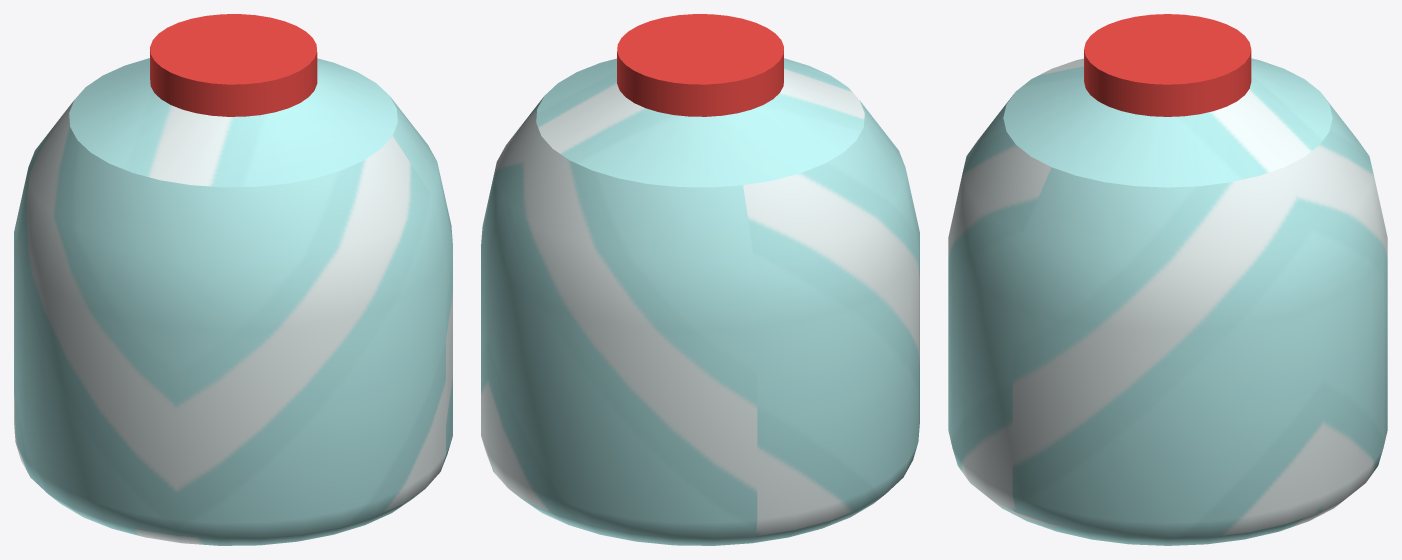
Rendered from Props_Jar.fbx.
3 renders of one model, left to right at view 1: azimuth 30°, elevation 25°; view 2: azimuth 150°, elevation 25°; view 3: azimuth 270°, elevation 25°, orthographic.
Visible parts, largest first — view 1: Props_Jar; view 2: Props_Jar; view 3: Props_Jar.
Part boxes in pixels (<box>): Props_Jar: <box>14,14,452,545</box>; Props_Jar: <box>481,14,919,545</box>; Props_Jar: <box>948,14,1387,545</box>.
Size of the model in its own units: 40.15 by 42.06 by 40.15.
